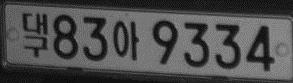3: (215, 23, 242, 69), (183, 21, 209, 68), (83, 15, 108, 61)
4: (245, 25, 276, 72)
8: (52, 13, 78, 59)
9: (151, 20, 178, 64)
대구_V: (21, 11, 48, 57)
아: (112, 20, 139, 60)
